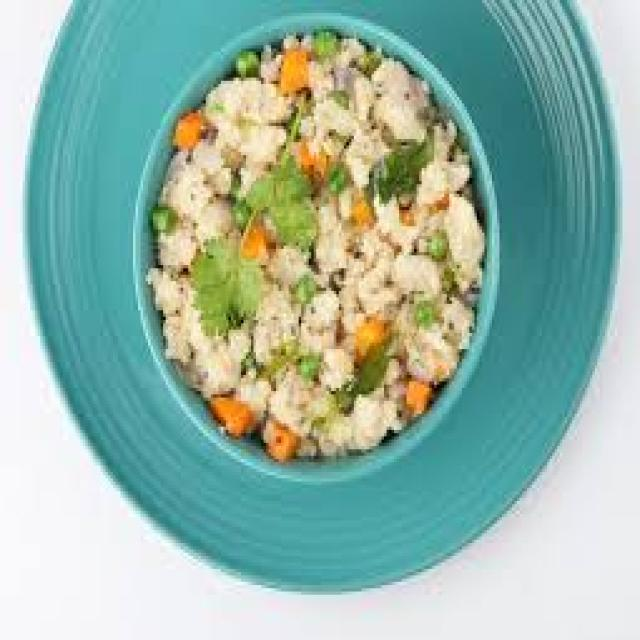UPMA: (146, 32, 479, 453)
